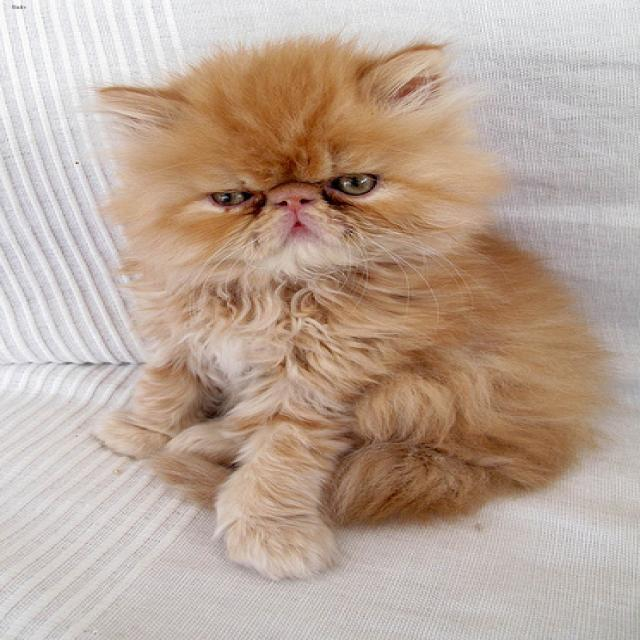Persian: (93, 26, 501, 279)
